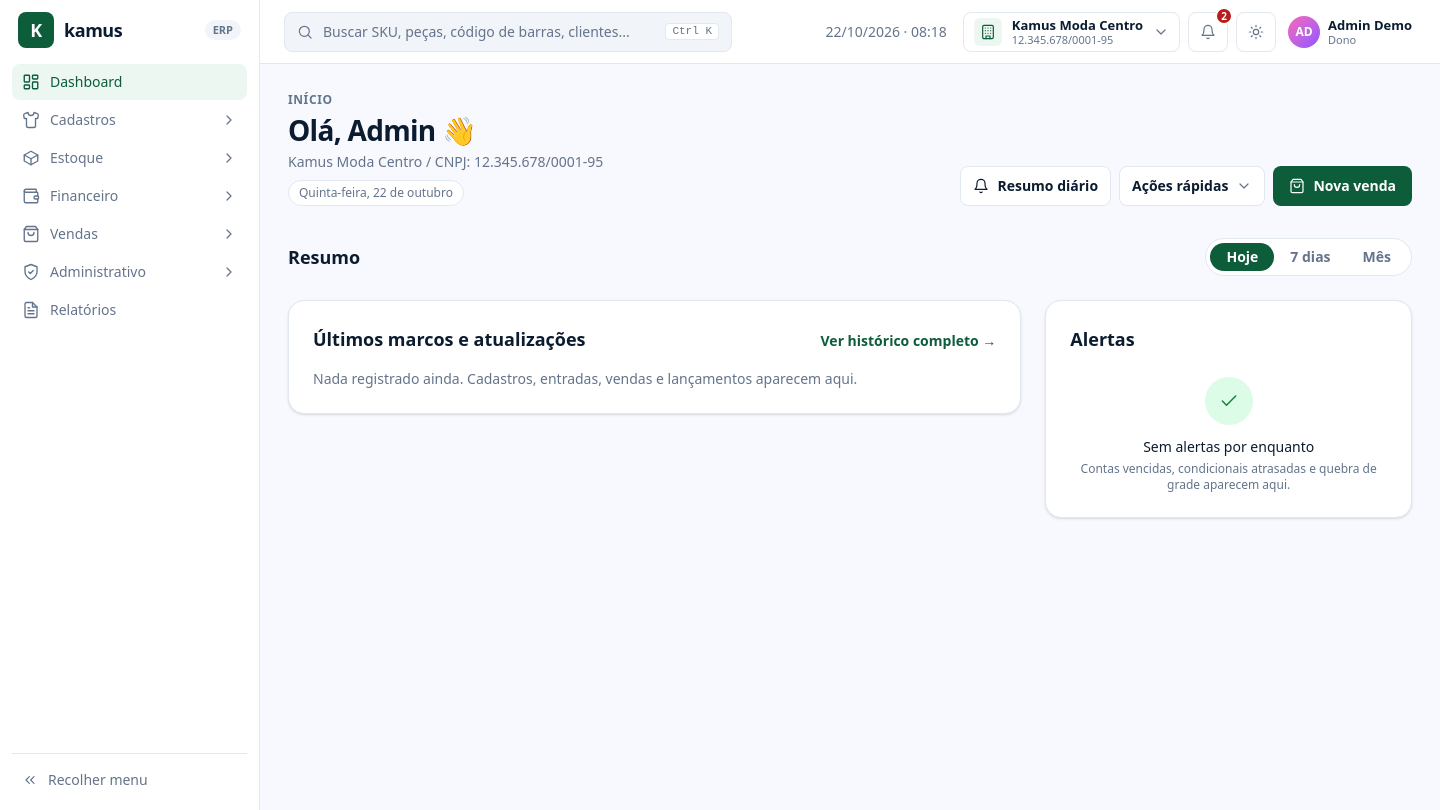
Test: Notificações (sininho) › marcar todas como lidas zera o contador
Click the button named "Notificações": click(1208, 32) [1188,12,1228,52]
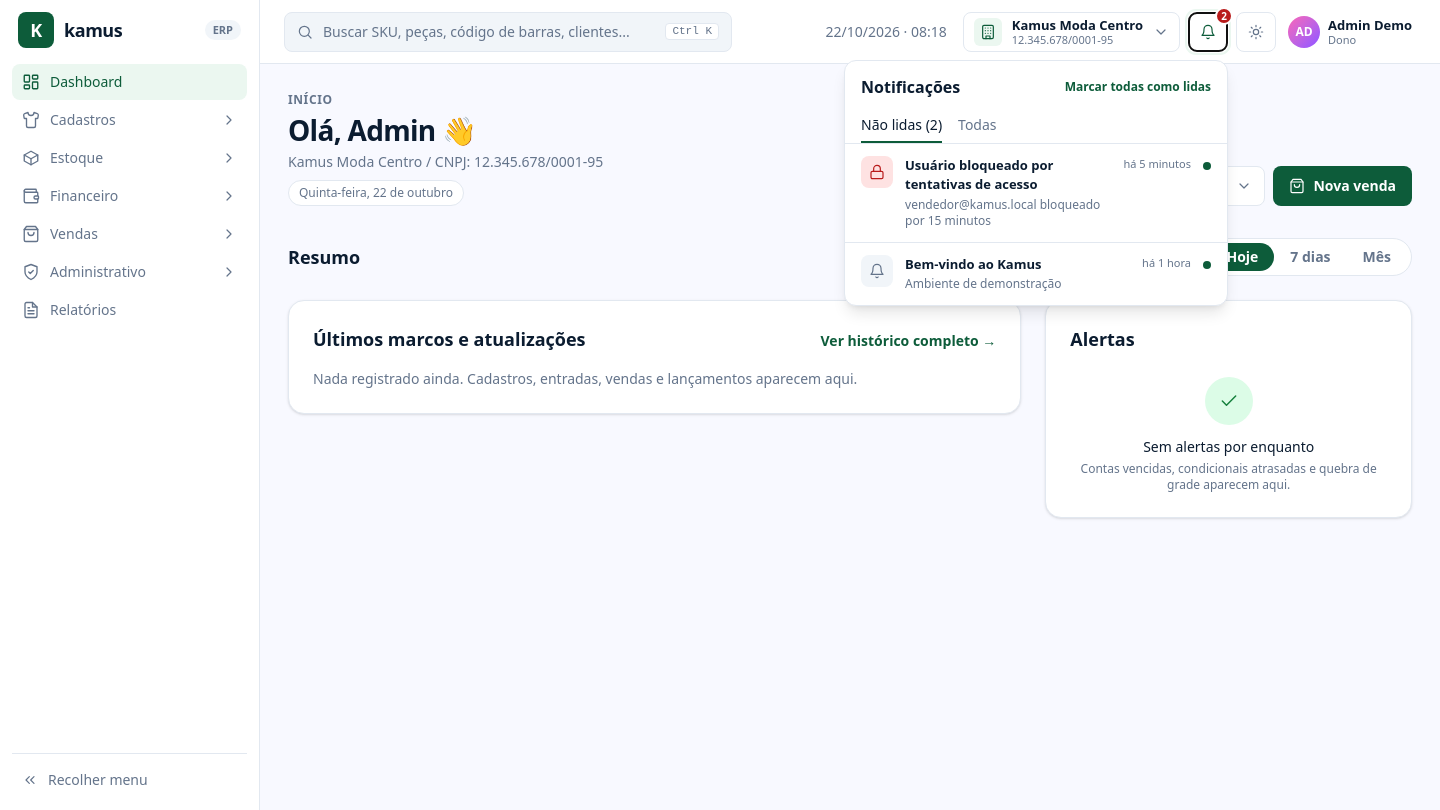
Click the button "Marcar todas como lidas": click(1138, 86) [1065,78,1211,94]
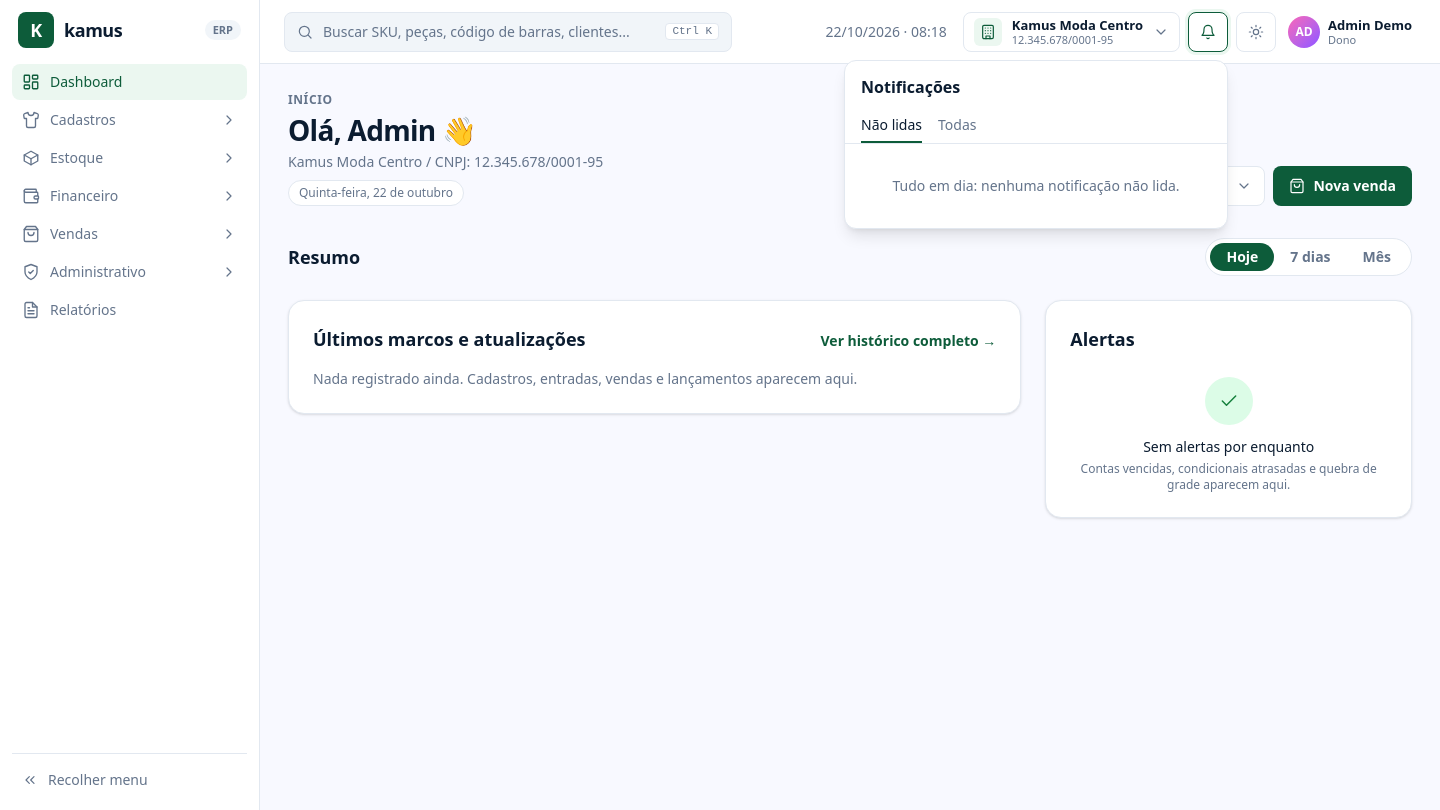
Now the button named "Notificações: nenhuma não lida" is shown, box [1188,12,1228,52]
